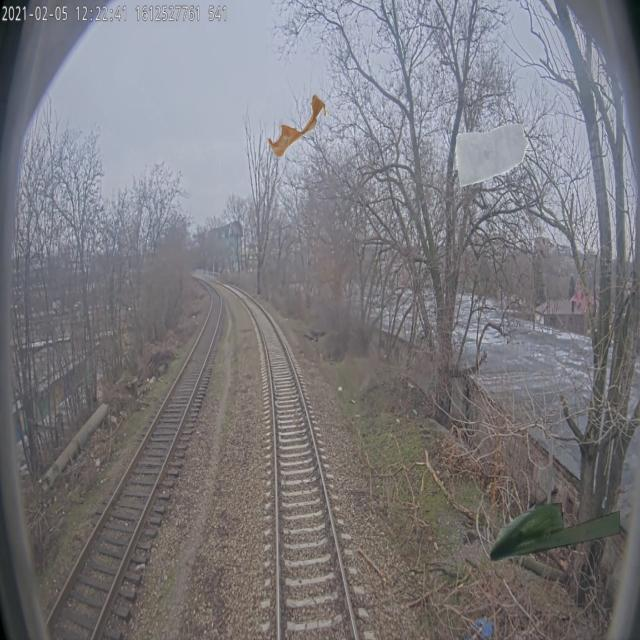floating object: (490, 499, 620, 563), (454, 120, 535, 191), (268, 94, 327, 158)
